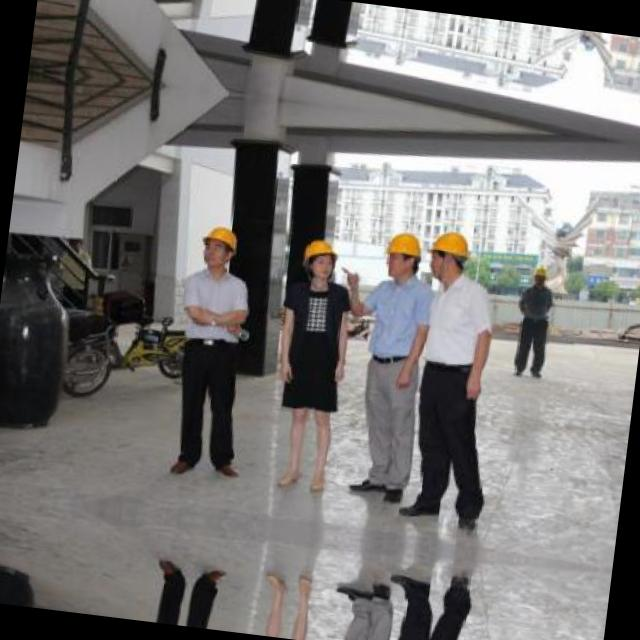helmet: (426, 224, 475, 284), (381, 225, 425, 280), (298, 232, 342, 284), (198, 221, 240, 270), (529, 258, 551, 286)
